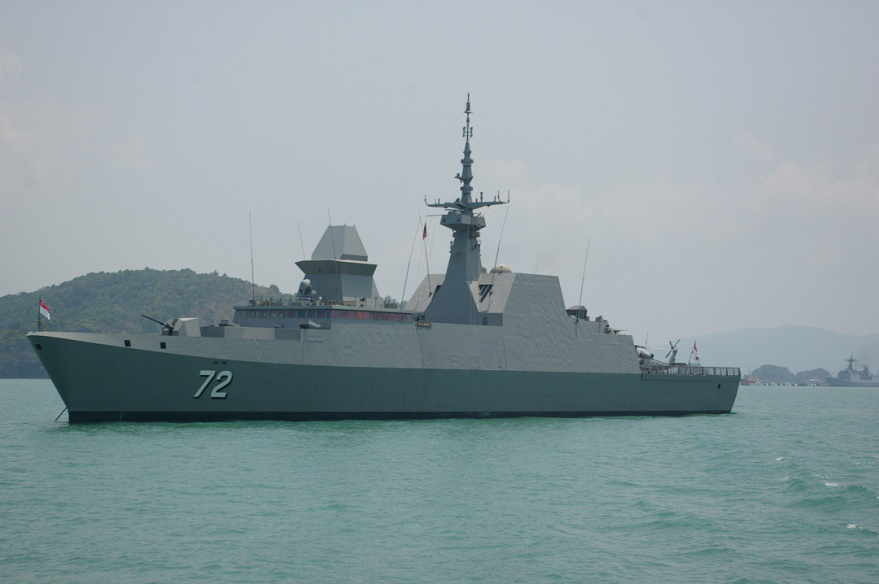warship: (24, 88, 751, 429)
